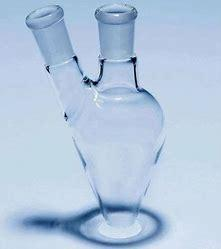Pear shaped flask: (10, 7, 172, 232)
